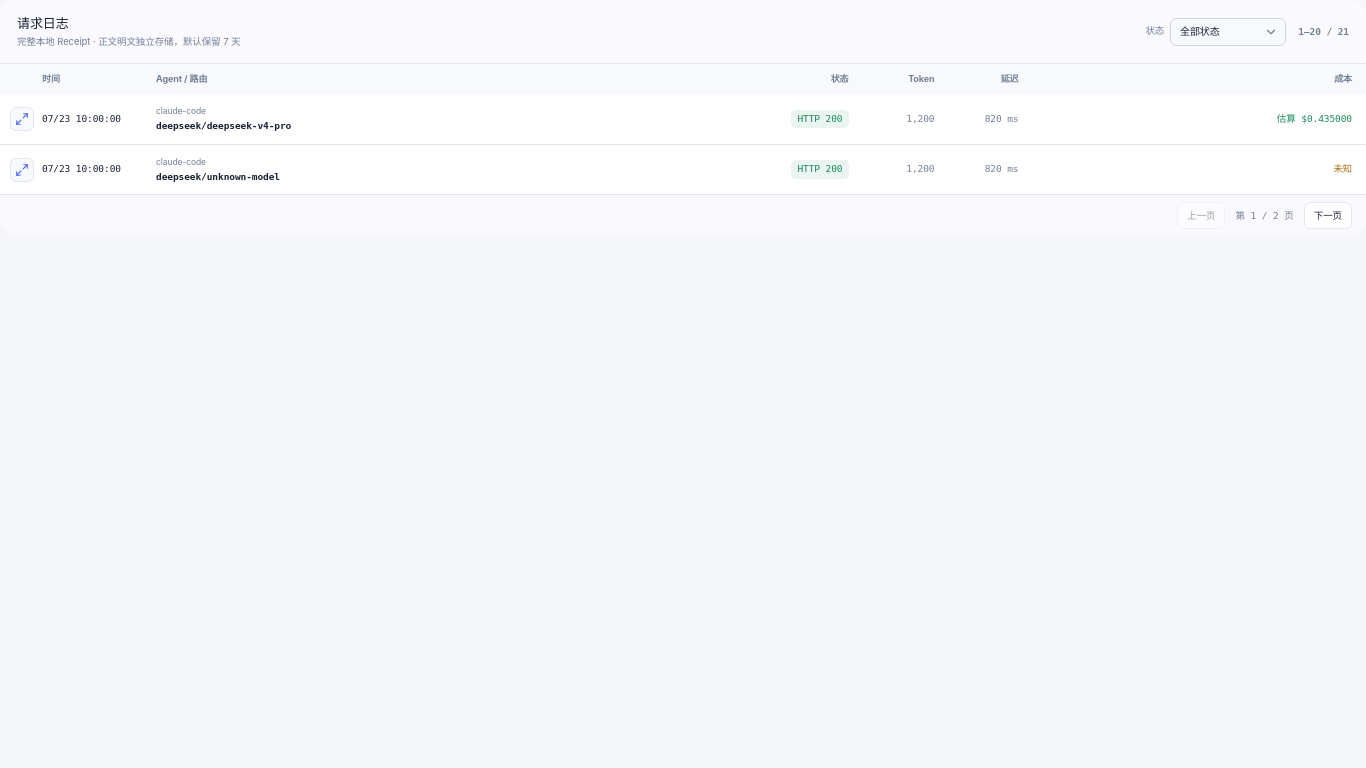
Test: UsageRequestLog › formats complete JSON in source view and preserves non-JSON source exactly
Click the text "deepseek/deepseek-v4-pro": (224, 126) [156,120,291,131]
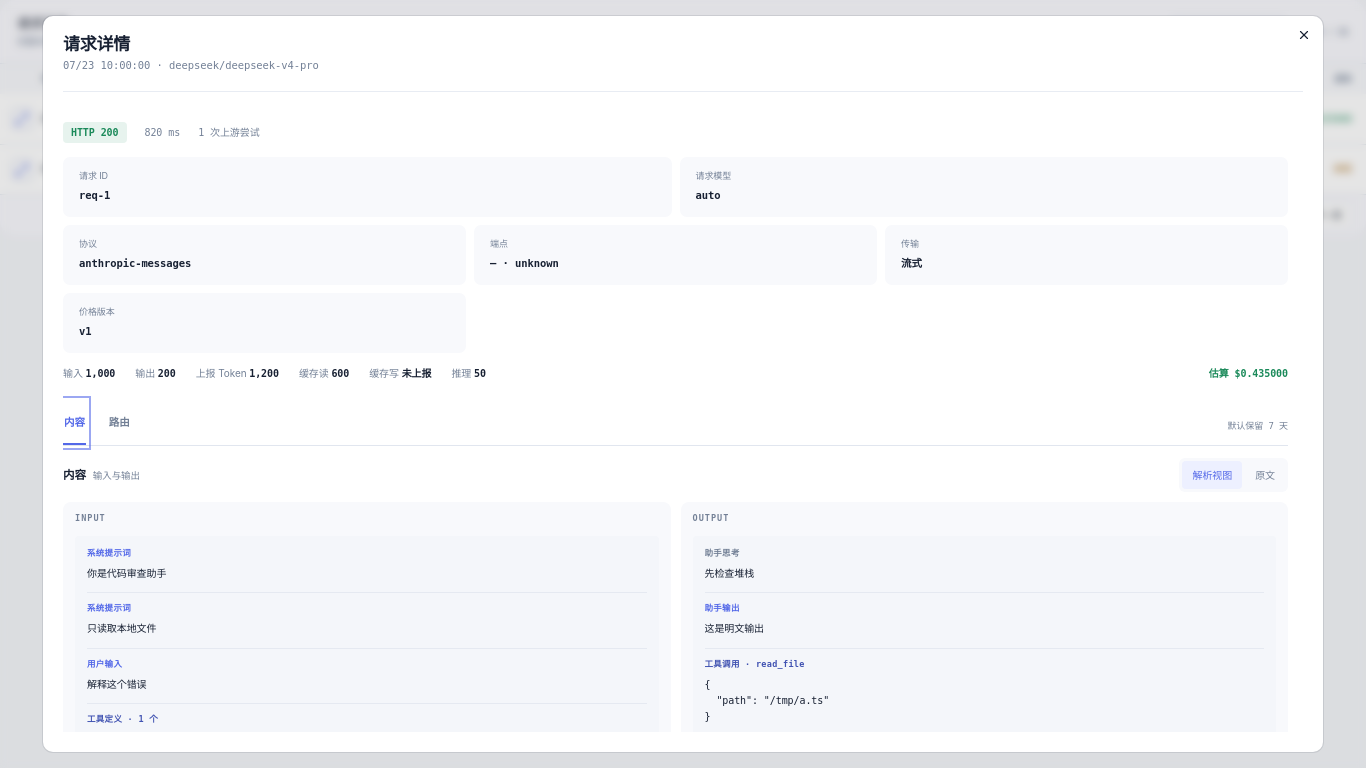
Result: the text "系统提示词" is shown 2 times at [87,548,131,558]; [87,603,131,613]
Result: the text "助手输出" is shown at [704,603,740,613]
Click the button "原文": (1265, 475) [1245,461,1285,489]
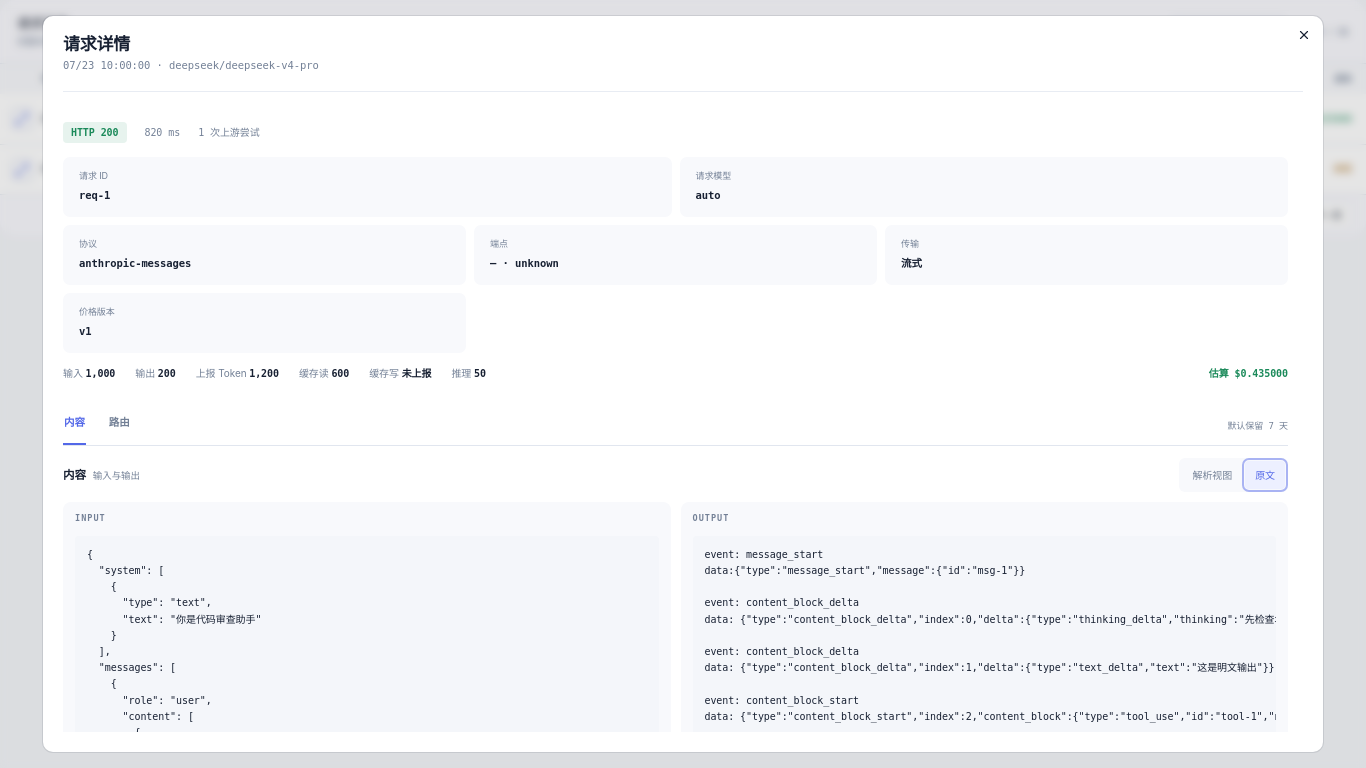
Result: the button "解析视图" is not pressed
Result: the button "原文" is pressed at [1245,461,1285,489]
Click the button "解析视图": (1212, 475) [1182,461,1242,489]
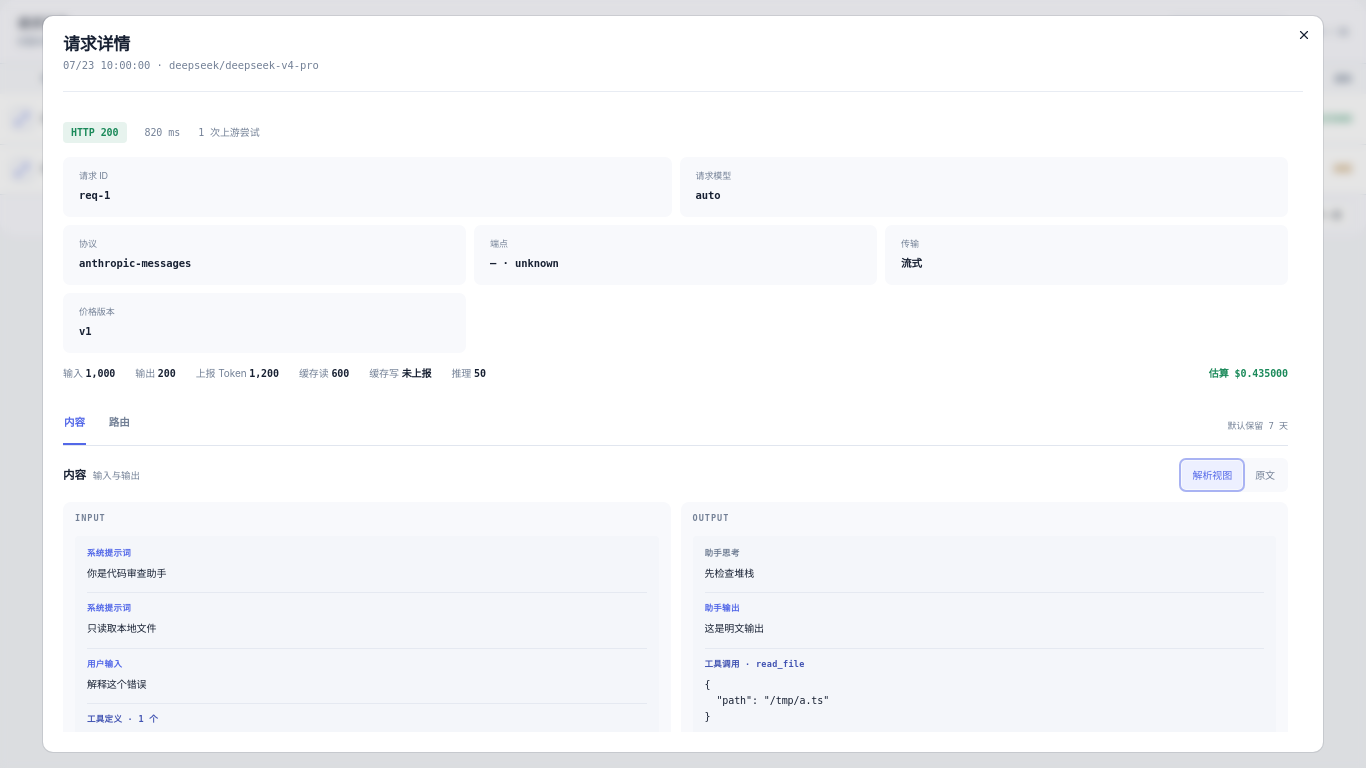
Result: the text "助手思考" is shown at [704,548,740,558]
Result: the text "工具调用 · read_file" is shown at [704,659,805,669]
